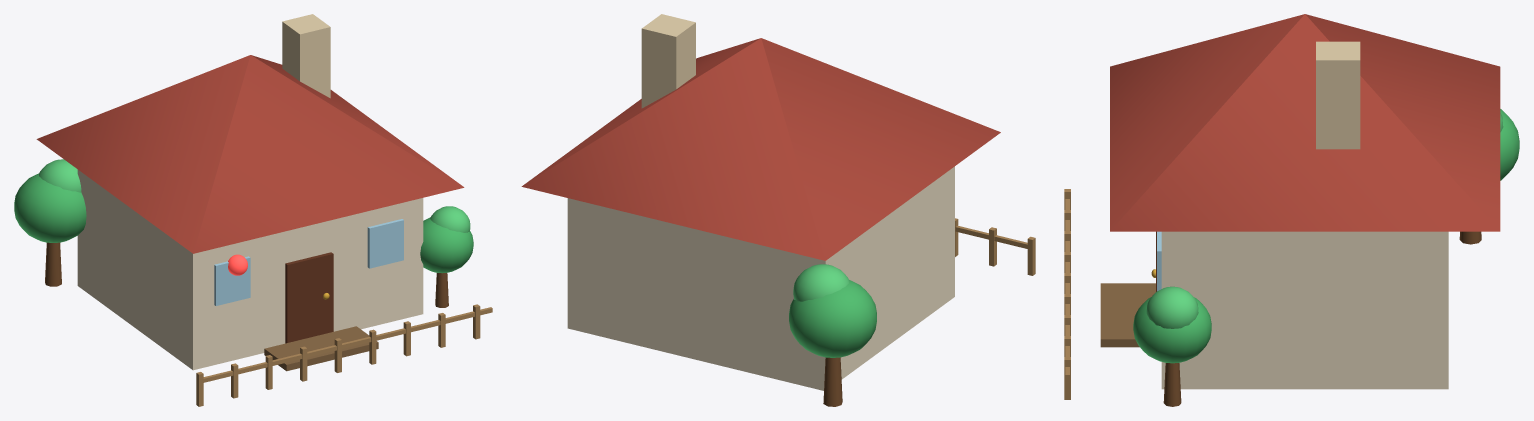
File: home.glb
3 views of the same model, side by side, from view 1: azimuth 30°, elevation 25°; view 2: azimuth 150°, elevation 25°; view 3: azimuth 270°, elevation 25° (orthographic). The views are drawn at different scales.
Size of the model in its own units: 4.31 by 3.1 by 4.12.
